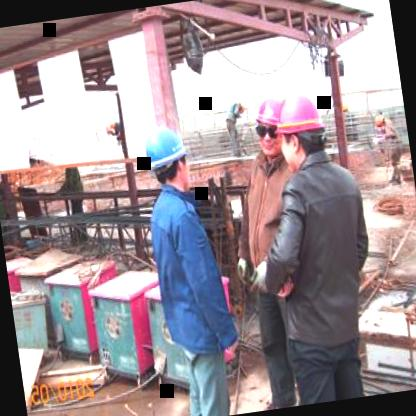helmet: (272, 85, 332, 177), (139, 120, 194, 202), (251, 95, 289, 159)
